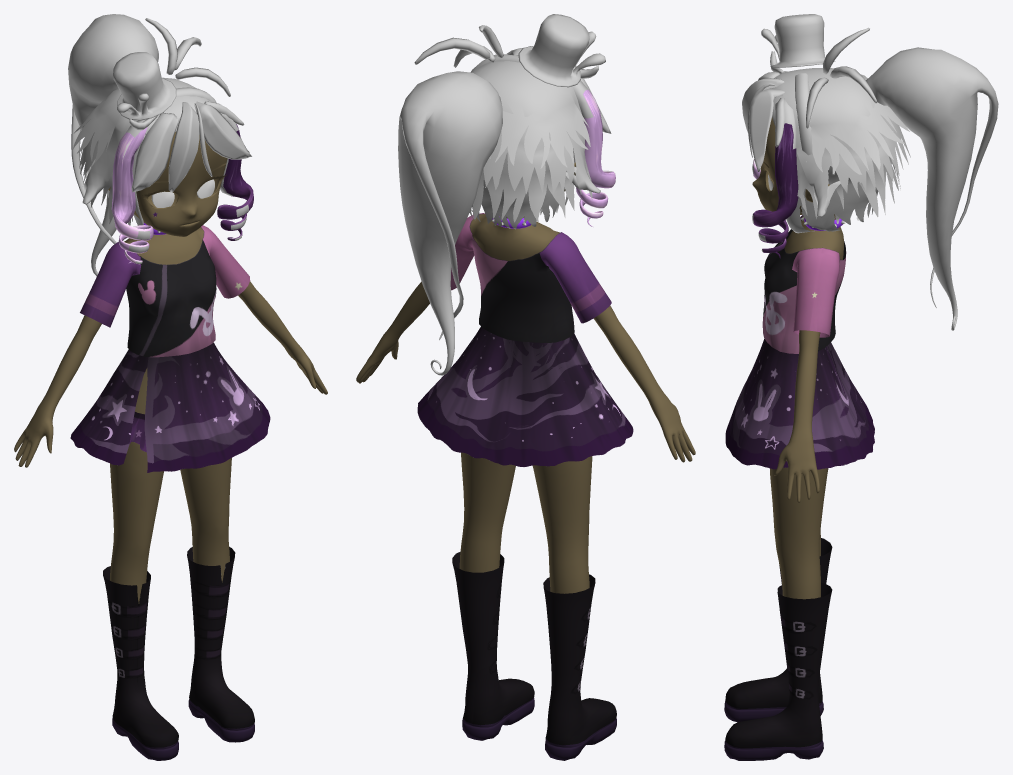
Rendered from test_stressdoll2.obj.
The picture shows the model from 3 angles, left to right: view 1: azimuth 30°, elevation 25°; view 2: azimuth 150°, elevation 25°; view 3: azimuth 270°, elevation 25°; orthographic projection. The views are drawn at different scales.
Visible parts, largest first — view 1: Cube.003_Cube.016, Cube.004, Cube.001, Eyes_Sphere.002; view 2: Cube.003_Cube.016, Cube.004, Cube.001; view 3: Cube.004, Cube.003_Cube.016, Cube.001.
Part boxes in pixels (x1,y1,x2,y2): Cube.003_Cube.016: [70, 225, 270, 760]; Cube.004: [68, 14, 253, 276]; Cube.001: [14, 132, 327, 603]; Eyes_Sphere.002: [151, 179, 214, 207]; Cube.003_Cube.016: [417, 213, 633, 760]; Cube.004: [398, 14, 615, 375]; Cube.001: [356, 162, 695, 593]; Cube.004: [742, 14, 998, 330]; Cube.003_Cube.016: [724, 215, 874, 760]; Cube.001: [752, 117, 844, 599].
Size of the model in its own units: 0.8347 by 1.78 by 0.6203.
